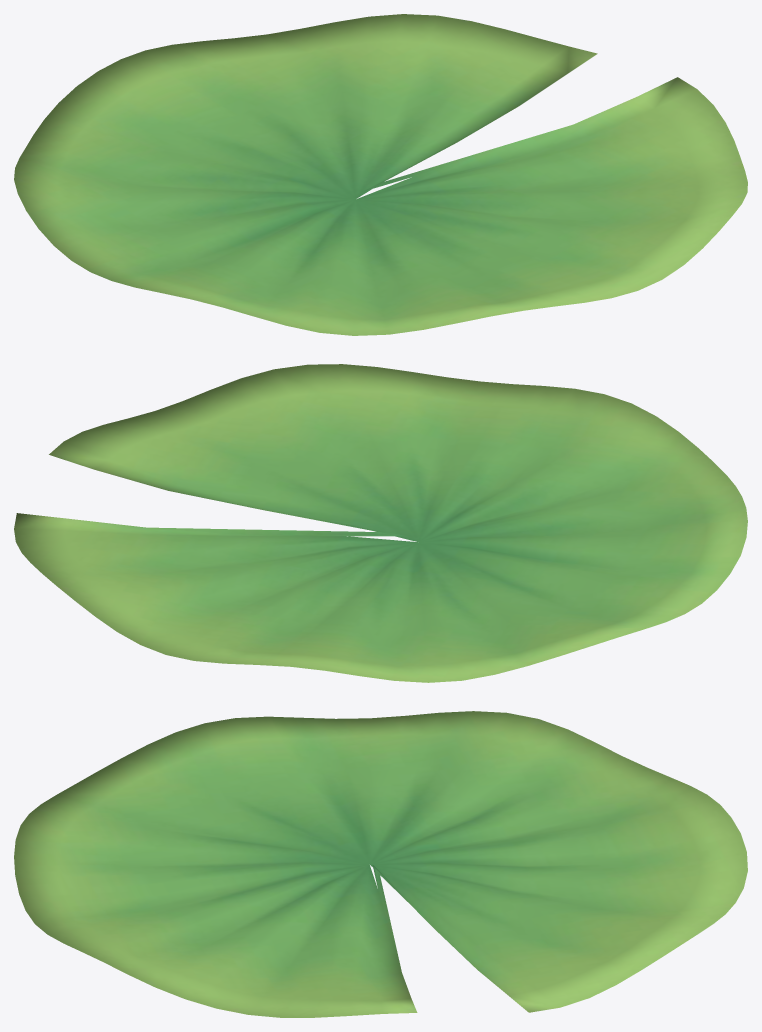
Rendered from LilyPad_Single_2.fbx.
3 renders of one model, top to bottom at view 1: azimuth 30°, elevation 25°; view 2: azimuth 150°, elevation 25°; view 3: azimuth 270°, elevation 25°, orthographic.
Visible parts, largest first — view 1: LilyPad_Single_2; view 2: LilyPad_Single_2; view 3: LilyPad_Single_2.
Boxes of the visible parts, x1,y1,x2,y2 form: LilyPad_Single_2: (14,14,747,335); LilyPad_Single_2: (14,364,747,682); LilyPad_Single_2: (14,711,747,1017).
Bounding box in the file's own units: 0.2934 × 0.00945 × 0.295.
1 material, 1 textured.
